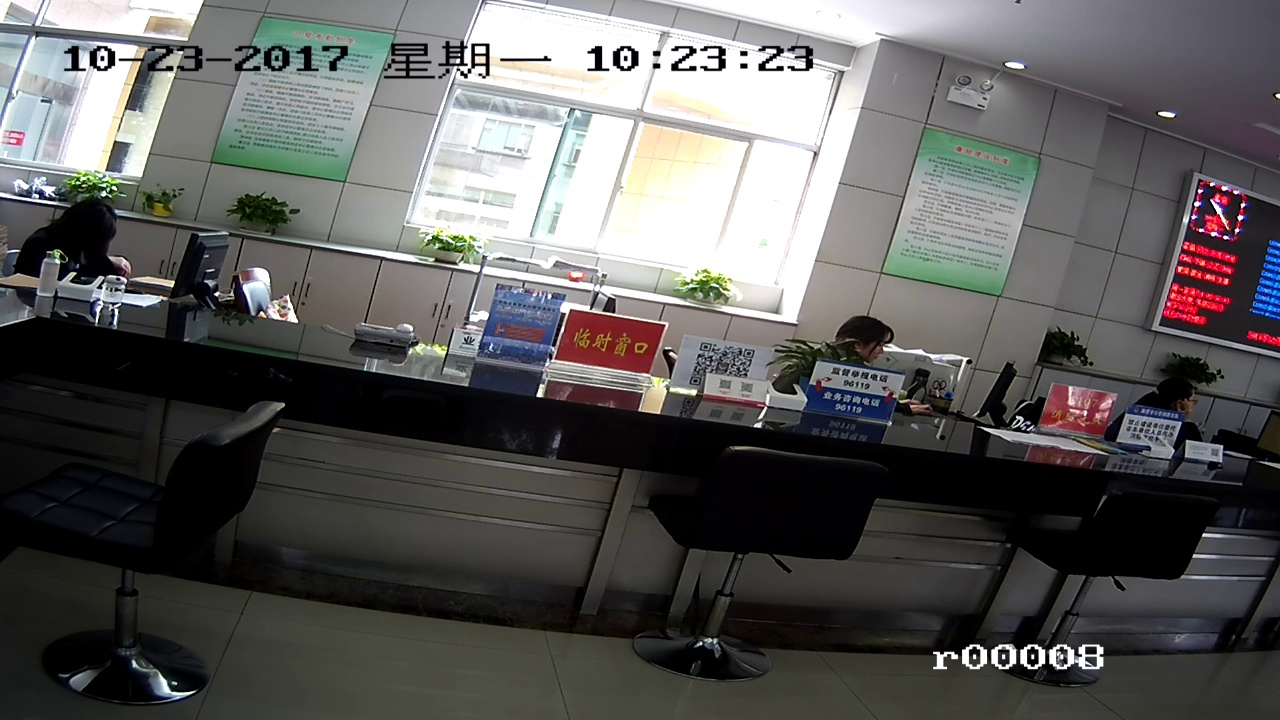billboard: (242, 28, 348, 184), (924, 133, 1012, 296), (570, 311, 652, 382), (809, 360, 886, 426), (1051, 389, 1109, 442)
chair: (43, 401, 260, 682), (677, 450, 882, 667), (1008, 499, 1226, 683)
monitor: (186, 231, 226, 314)
person: (29, 201, 110, 273), (1135, 368, 1204, 444), (843, 324, 901, 363)
pot: (1047, 324, 1105, 376), (236, 197, 291, 240), (68, 168, 118, 212), (430, 232, 480, 265), (684, 273, 724, 309), (143, 189, 182, 217)
